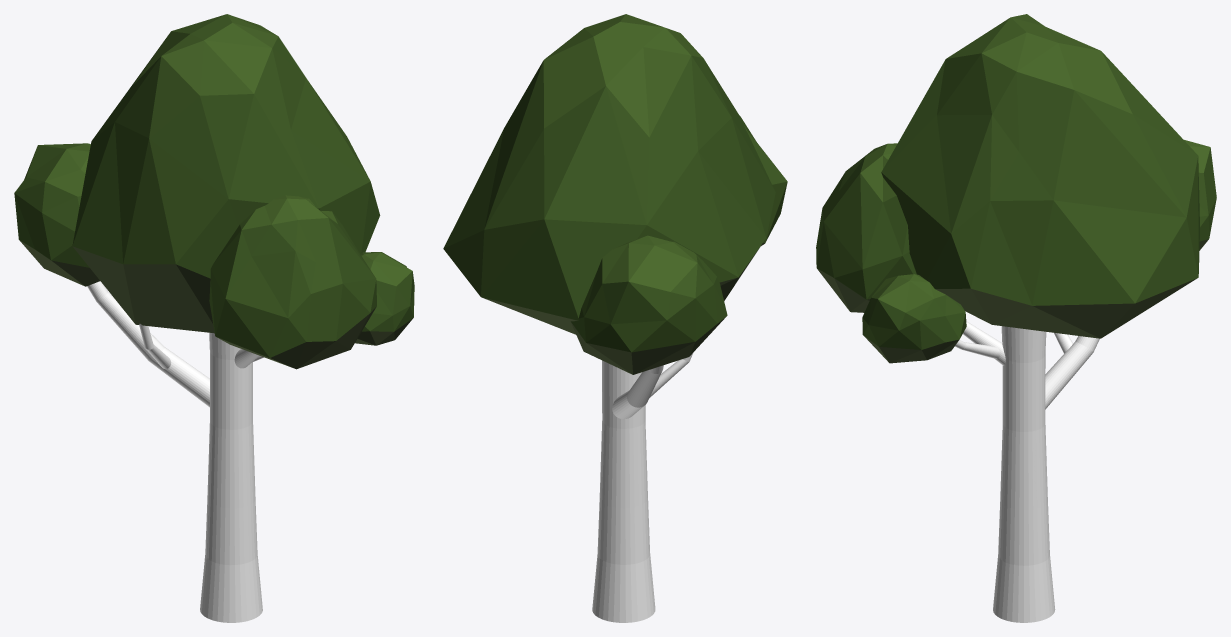
Rendered from tree.fbx.
3 views of the same model, side by side, from view 1: azimuth 30°, elevation 25°; view 2: azimuth 150°, elevation 25°; view 3: azimuth 270°, elevation 25° (orthographic).
Parts seen in each view (by area): view 1: Cylinder; view 2: Cylinder; view 3: Cylinder.
Part boxes in pixels (bbox=[...]): Cylinder: bbox=[14, 14, 414, 622]; Cylinder: bbox=[443, 14, 787, 622]; Cylinder: bbox=[816, 14, 1216, 622].
Size of the model in its own units: 625 by 1290 by 810.
